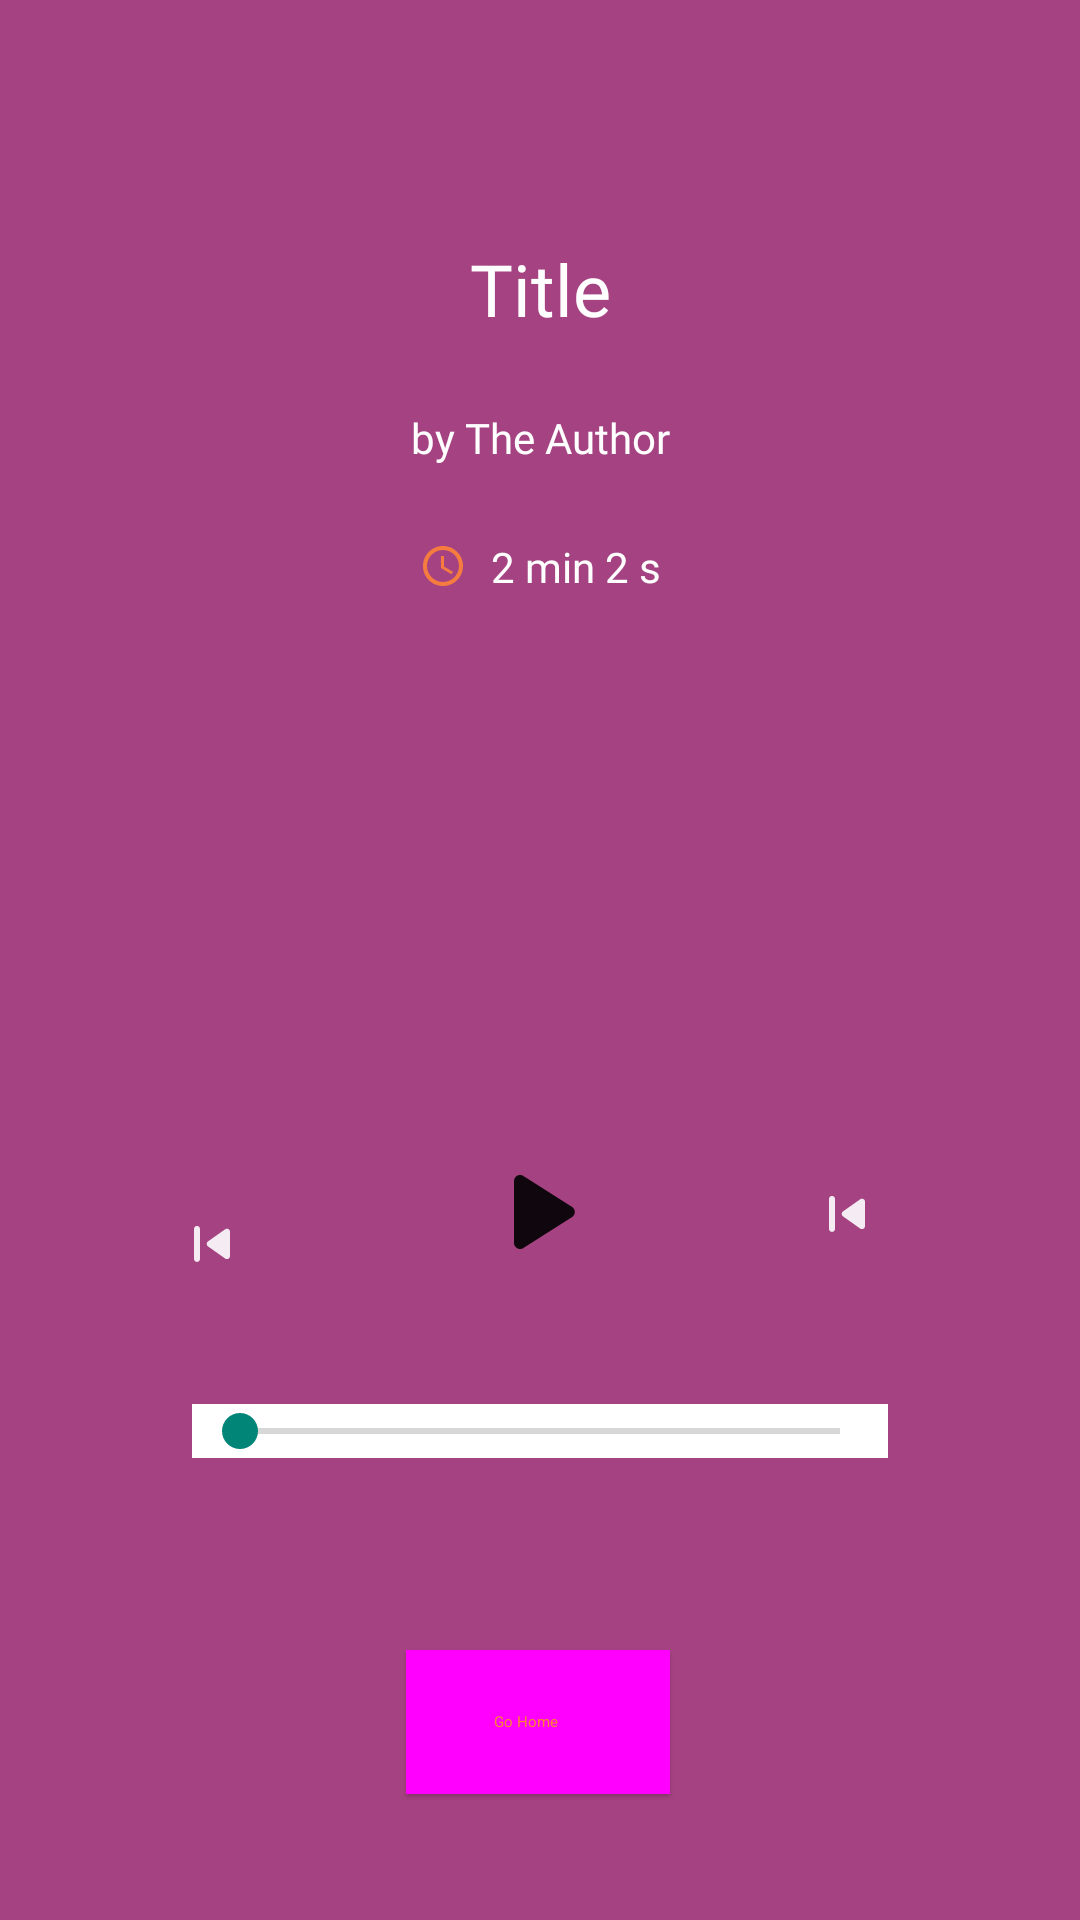

Icons on this 1080px×1920px Android screen, each with its box as (x1, y1, x2, y2):
iconplay: (514, 1175, 575, 1249)
iconskipleft: (194, 1226, 230, 1262)
icontime: (423, 546, 463, 586)
